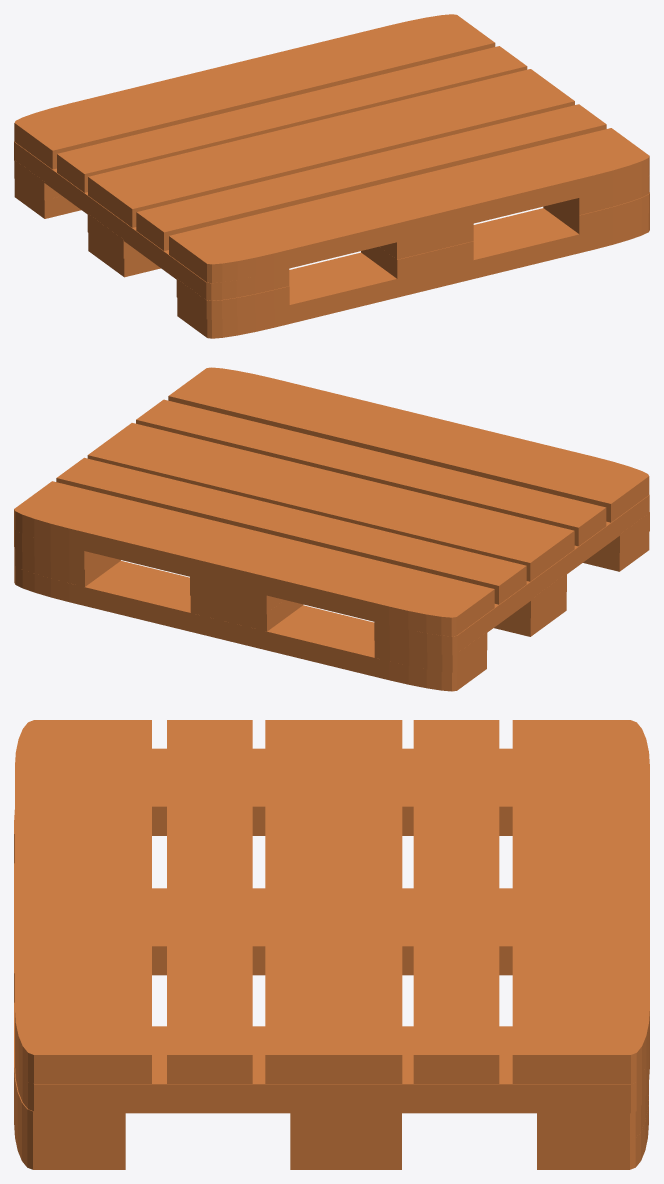
File: Palete.fbx
3 renders of one model, top to bottom at view 1: azimuth 30°, elevation 25°; view 2: azimuth 150°, elevation 25°; view 3: azimuth 270°, elevation 25°, orthographic. The views are drawn at different scales.
Parts seen in each view (by area): view 1: Cube.019; view 2: Cube.019; view 3: Cube.019.
Part boxes in pixels (x1,y1,x2,y2): Cube.019: (14,14,649,338); Cube.019: (14,367,649,691); Cube.019: (14,720,649,1169).
Bounding box in the file's own units: 308 × 49.17 × 247.
